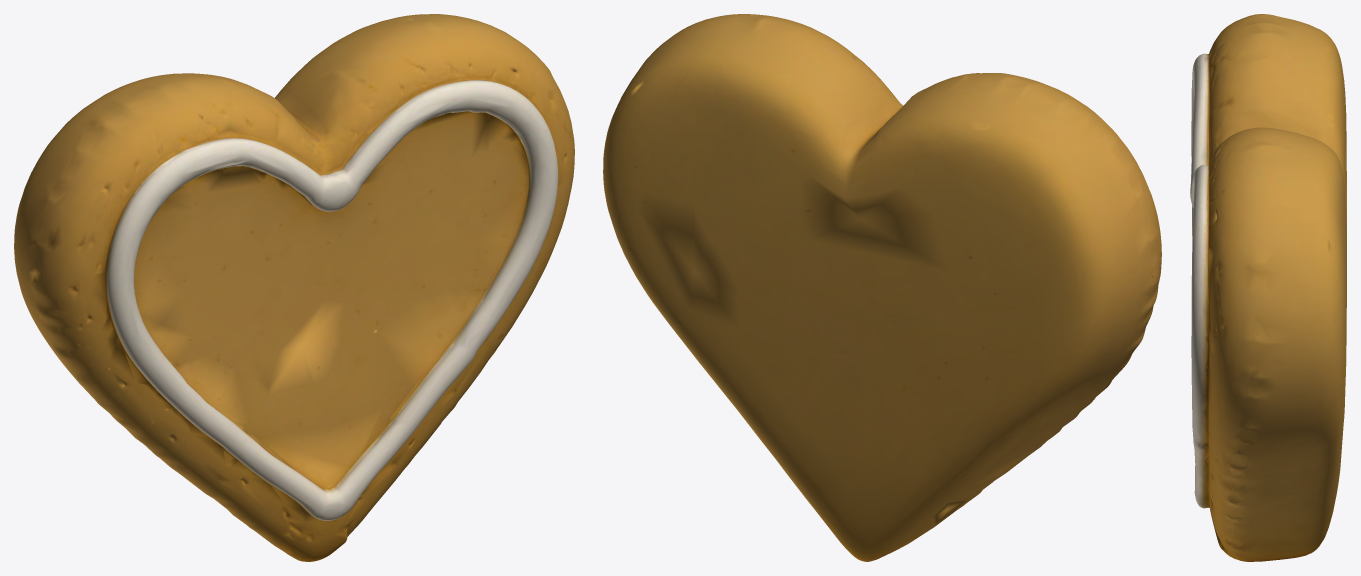
The model's file is bk-pastry-cookie-heart.glb.
3 renders of one model, left to right at view 1: azimuth 30°, elevation 25°; view 2: azimuth 150°, elevation 25°; view 3: azimuth 270°, elevation 25°, orthographic. The views are drawn at different scales.
Parts seen in each view (by area): view 1: node_0; view 2: node_0; view 3: node_0.
Part boxes in pixels (box(x1,y1,x2,y2)): node_0: box(14, 14, 574, 561); node_0: box(603, 14, 1161, 561); node_0: box(1190, 14, 1346, 561).
Size of the model in its own units: 1.06 by 0.9589 by 0.2873.
Materials: 1 (1 with a texture image).
